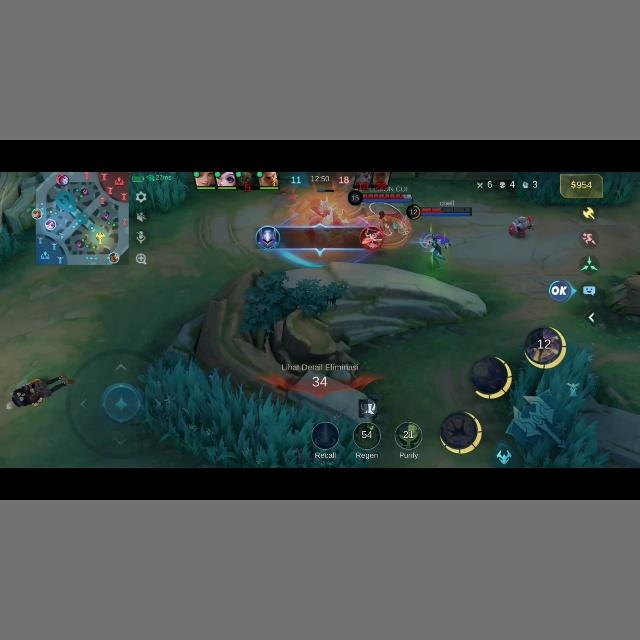hp_enemy: (349, 189, 415, 203), (407, 204, 472, 218), (315, 187, 335, 192)
minion_enemy: (360, 222, 387, 249), (508, 213, 536, 236), (311, 198, 335, 224)
